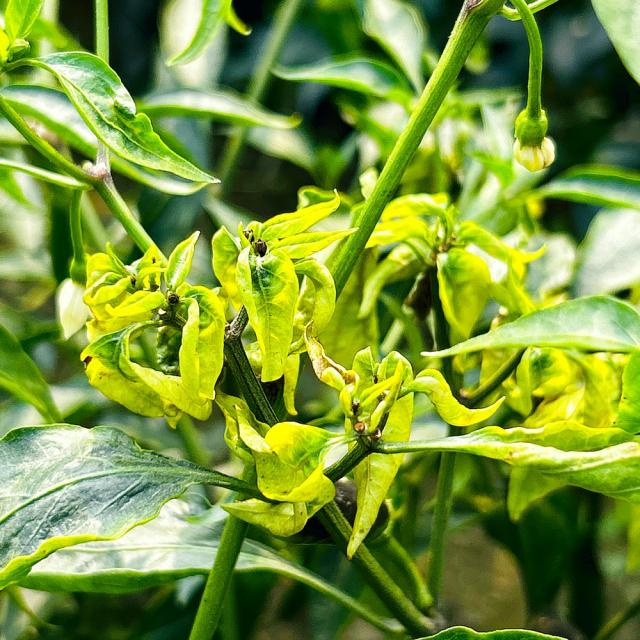Chilli_Leaf_Curl: (1, 2, 638, 636), (235, 340, 505, 560), (386, 293, 639, 520), (319, 0, 505, 304), (0, 421, 260, 592), (18, 48, 222, 194), (78, 229, 226, 428), (210, 187, 358, 383), (418, 293, 638, 361), (509, 0, 555, 172)
